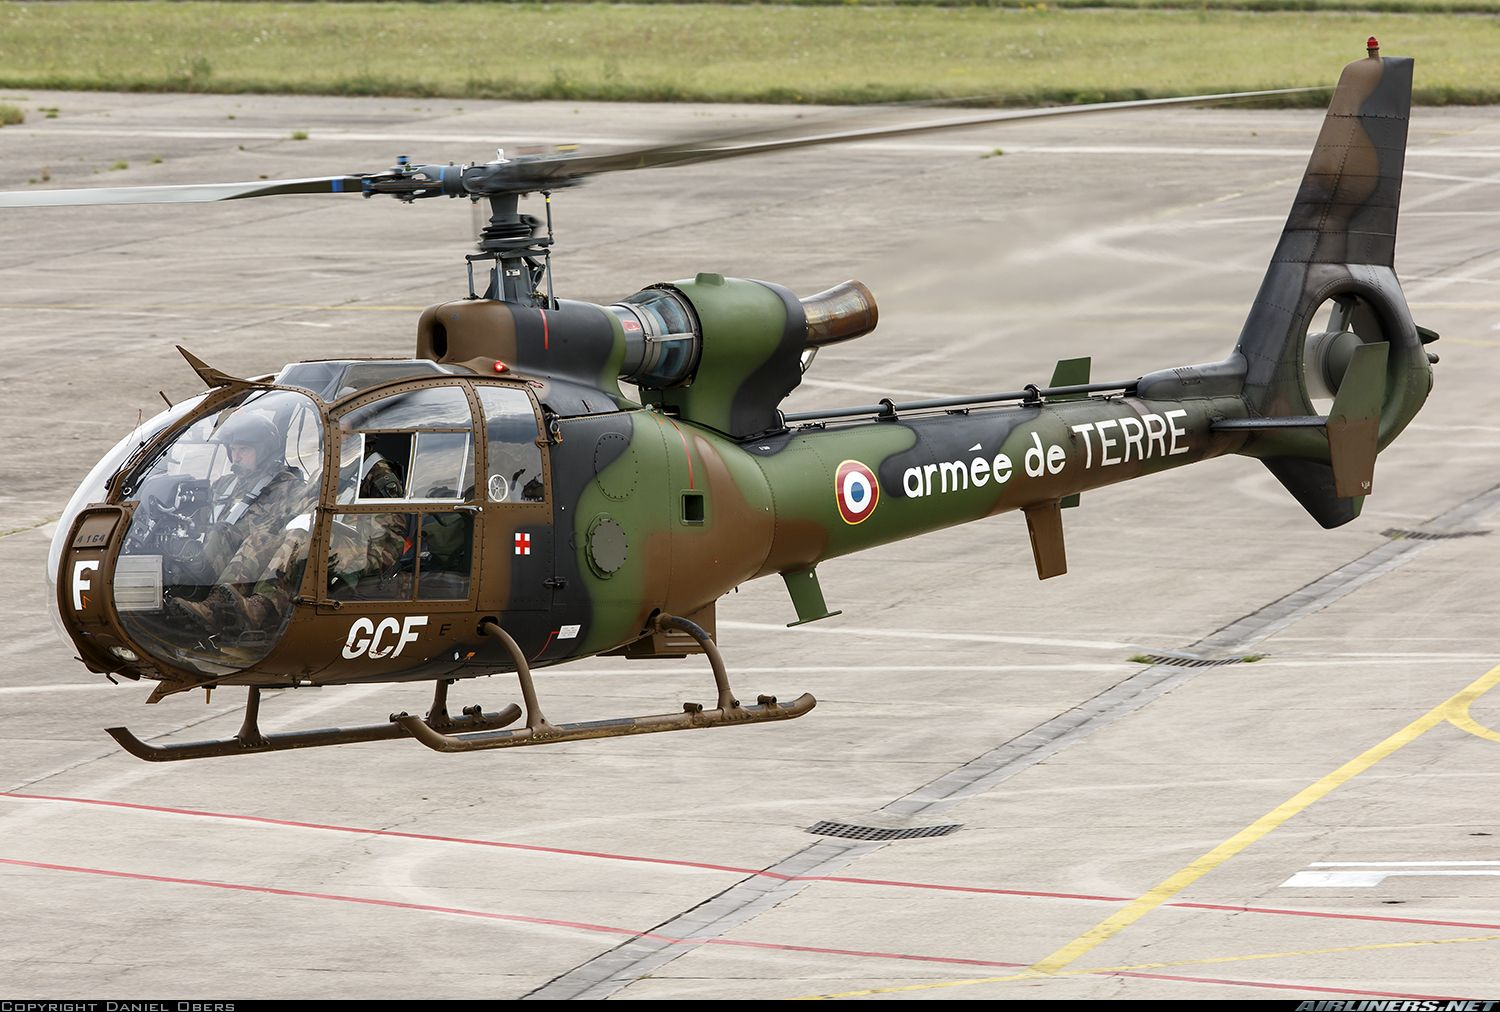Aeronef_militaire: (1, 30, 1457, 773)
